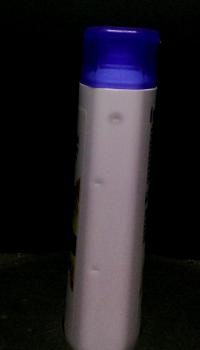dent_marginal: (98, 110, 125, 129), (88, 256, 107, 282), (91, 171, 107, 189)
